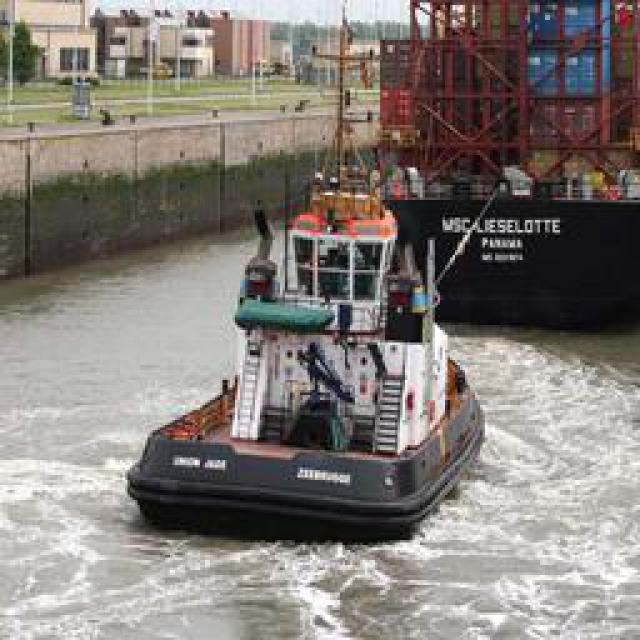Ship: (136, 104, 489, 539)
